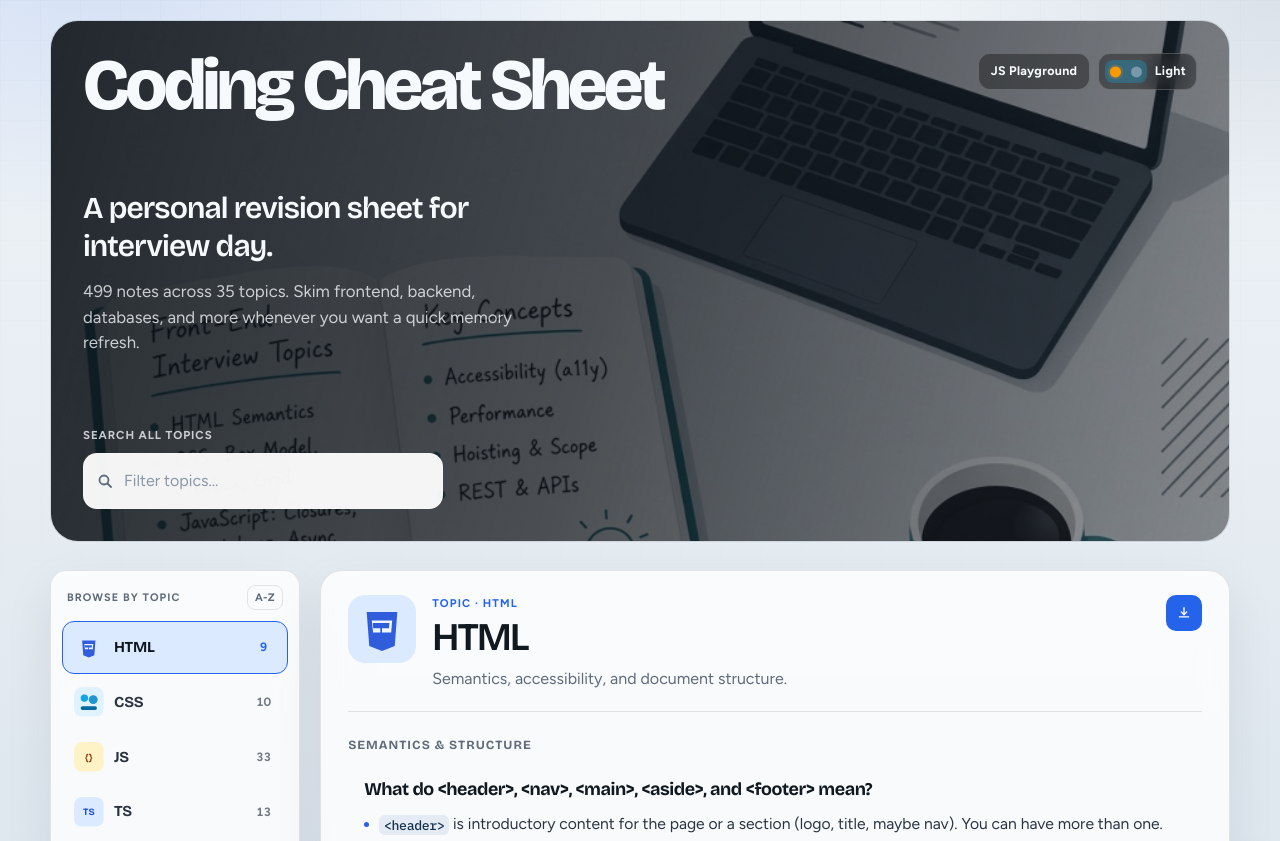
Test: App › navigates to the JS playground
Click the link "JS Playground": (1034, 72) [978,53,1090,90]
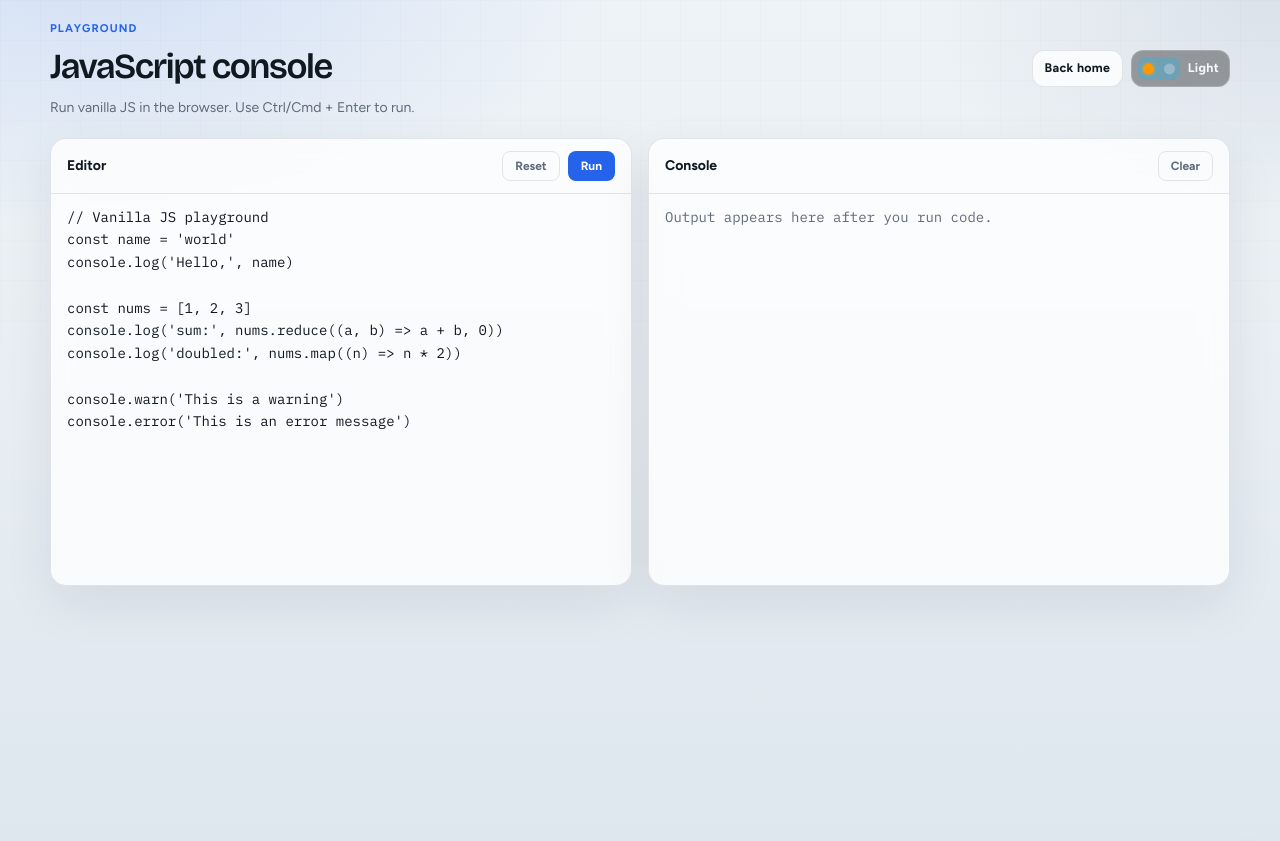
expect the heading "JavaScript console" is shown: met, box [50,45,332,88]
expect the button "Run" is shown: met, box [568,151,615,181]
